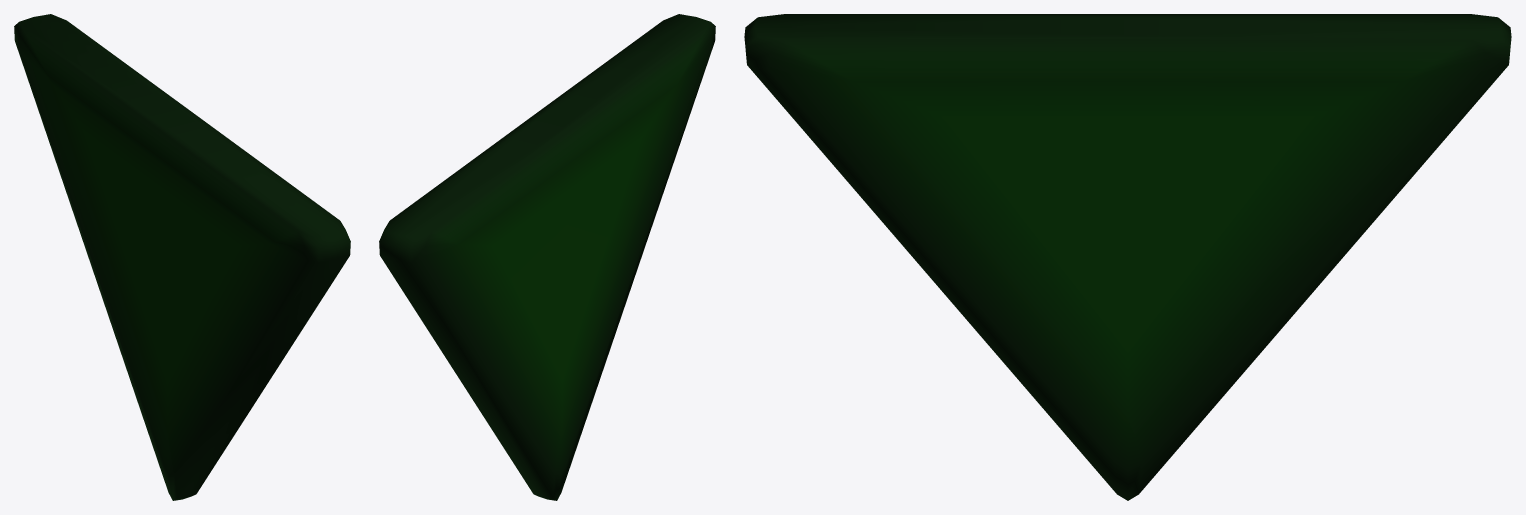
Rendered from cmn_obj_scannonarrow_HD.fbx.
The picture shows the model from 3 angles, left to right: view 1: azimuth 30°, elevation 25°; view 2: azimuth 150°, elevation 25°; view 3: azimuth 270°, elevation 25°; orthographic projection. The views are drawn at different scales.
Parts seen in each view (by area): view 1: cmn_obj_scannonarrow_HD; view 2: cmn_obj_scannonarrow_HD; view 3: cmn_obj_scannonarrow_HD.
Part boxes in pixels (x1,y1,x2,y2): cmn_obj_scannonarrow_HD: (14,14,350,500); cmn_obj_scannonarrow_HD: (379,14,715,500); cmn_obj_scannonarrow_HD: (744,14,1511,500).
Bounding box in the file's own units: 0.0544 × 0.6772 × 0.457.
